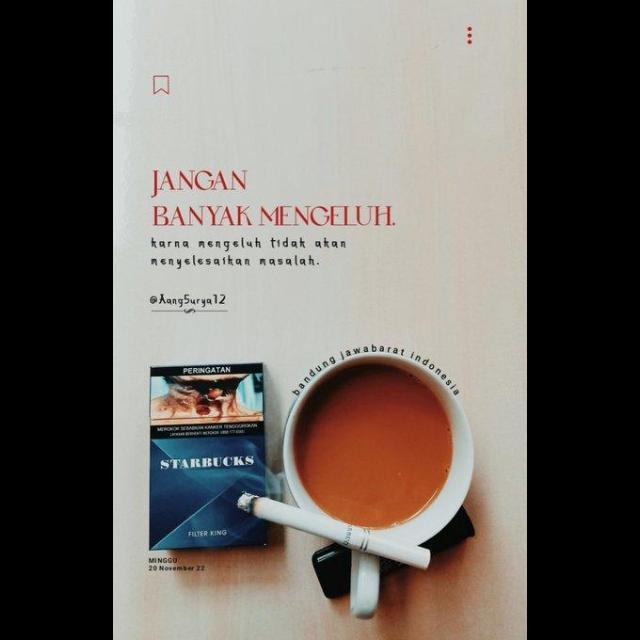rokok: (232, 484, 440, 574)
